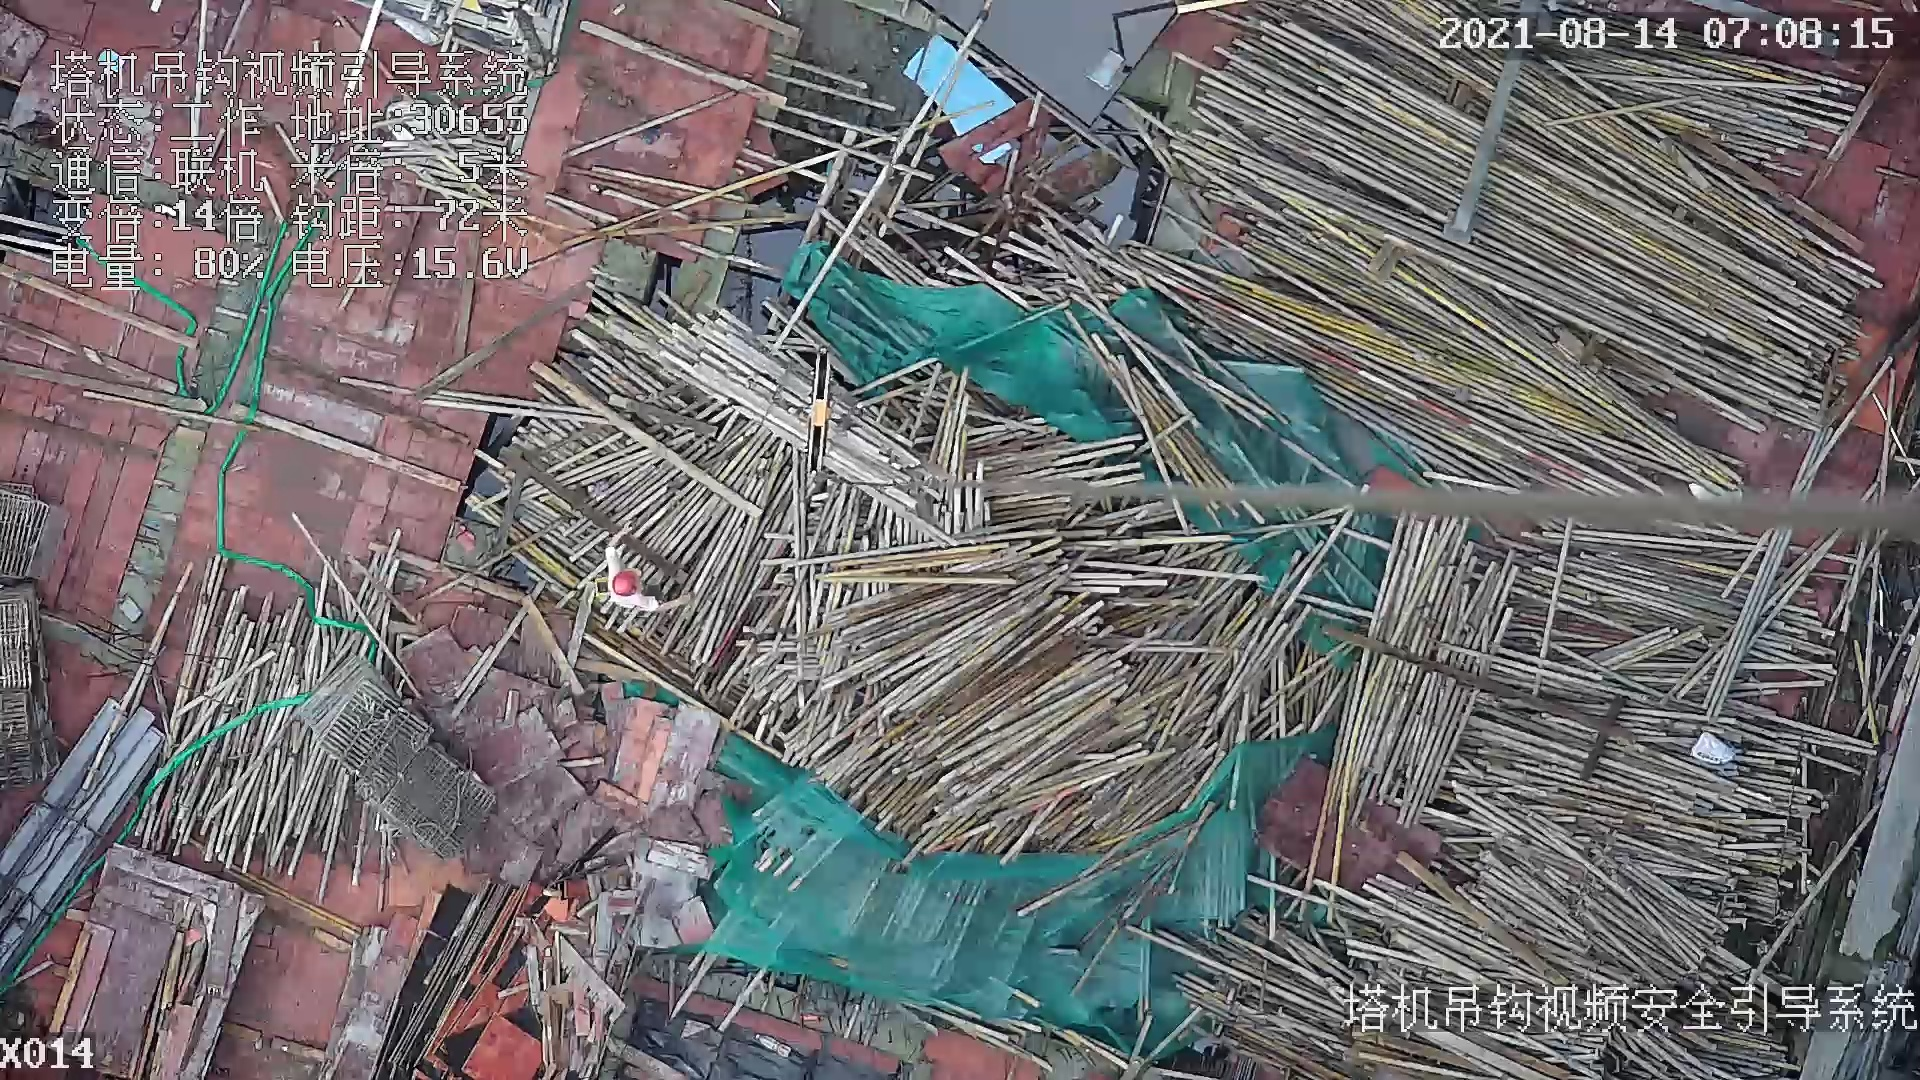helmet: (611, 570, 640, 597)
hook: (795, 349, 838, 482)
person: (595, 512, 691, 618)
